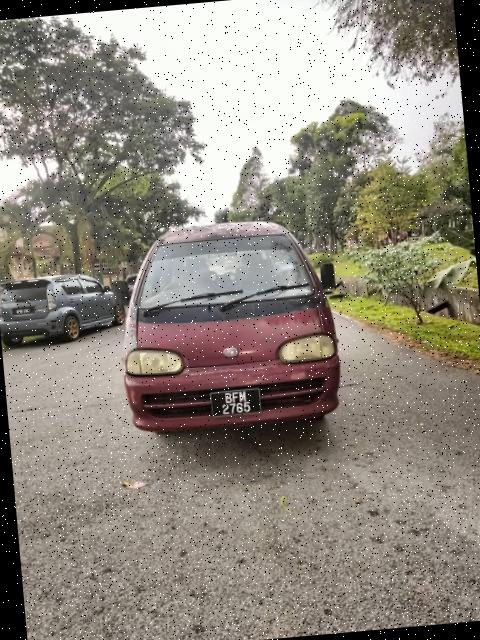License_Plate: (214, 387, 263, 421)
car: (107, 215, 348, 447)
